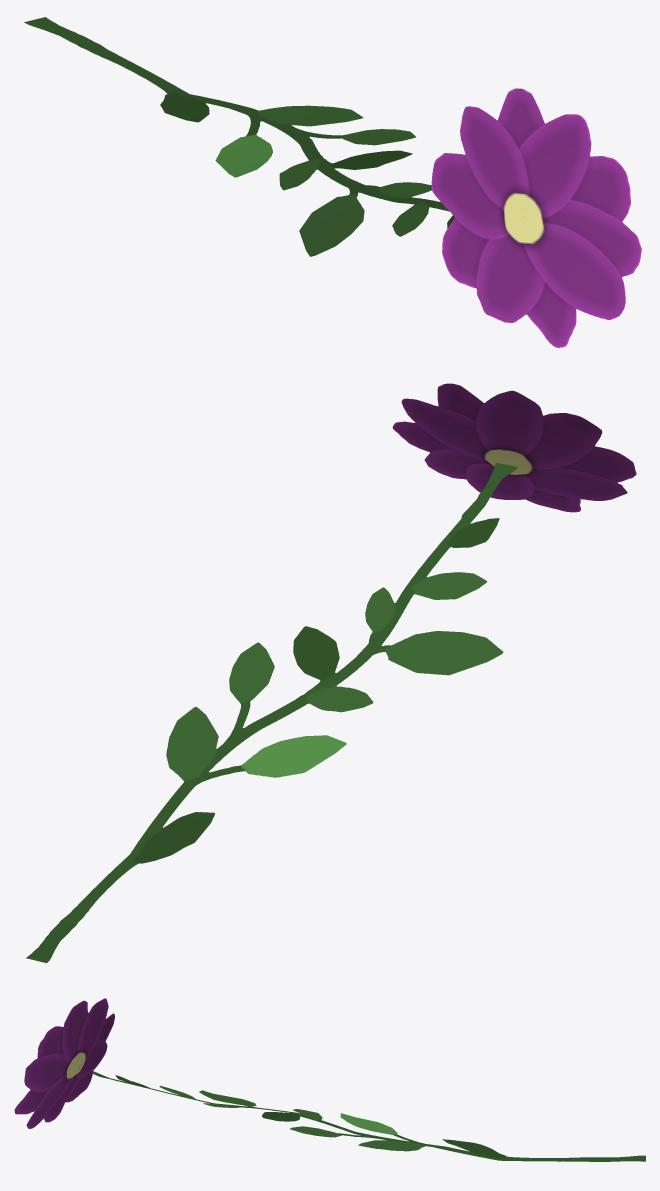
The model's file is Bloemen-los-groot-roze.dae.
3 renders of one model, top to bottom at view 1: azimuth 30°, elevation 25°; view 2: azimuth 150°, elevation 25°; view 3: azimuth 270°, elevation 25°, orthographic. The views are drawn at different scales.
Visible parts, largest first — view 1: Bloemen_Large_Single_geo; view 2: Bloemen_Large_Single_geo; view 3: Bloemen_Large_Single_geo.
Part boxes in pixels (bbox=[...]): Bloemen_Large_Single_geo: bbox=[24, 17, 641, 347]; Bloemen_Large_Single_geo: bbox=[26, 383, 636, 963]; Bloemen_Large_Single_geo: bbox=[14, 998, 645, 1161].
Size of the model in its own units: 9.72 by 10.89 by 39.25.
Materials: 1 (1 with a texture image).
